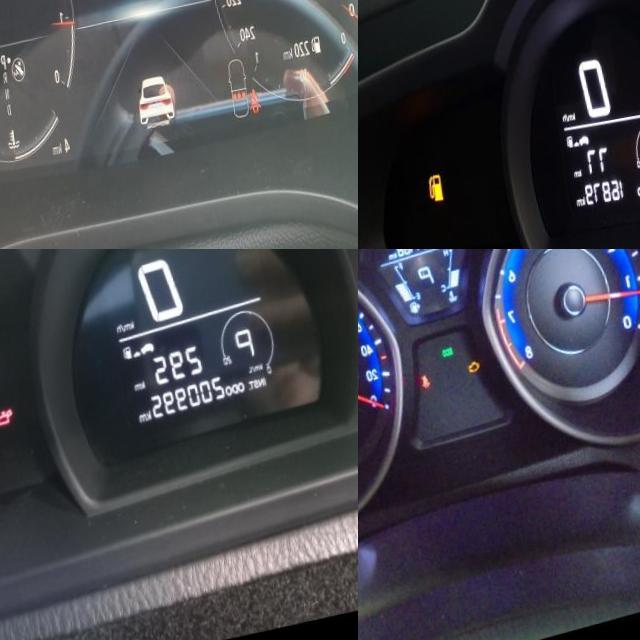Low fuel level: (419, 176, 436, 208)
